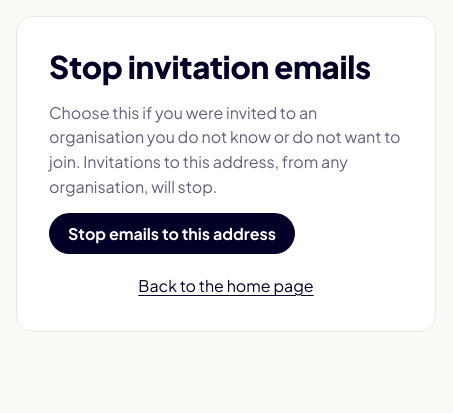
StopEmails › shows why an invalid link failed
Click the button "Stop emails to this address".
click(172, 233)  # box [49,212,295,254]
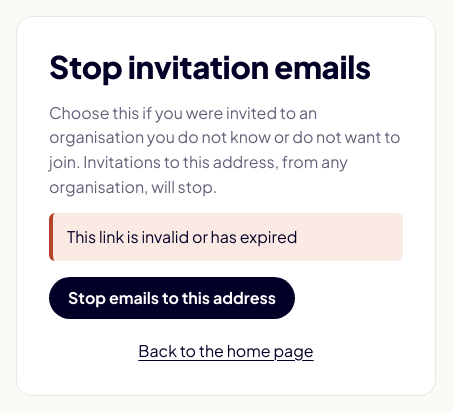
Expected: the text "This link is invalid or has expired" is shown, [67,226,297,246]
